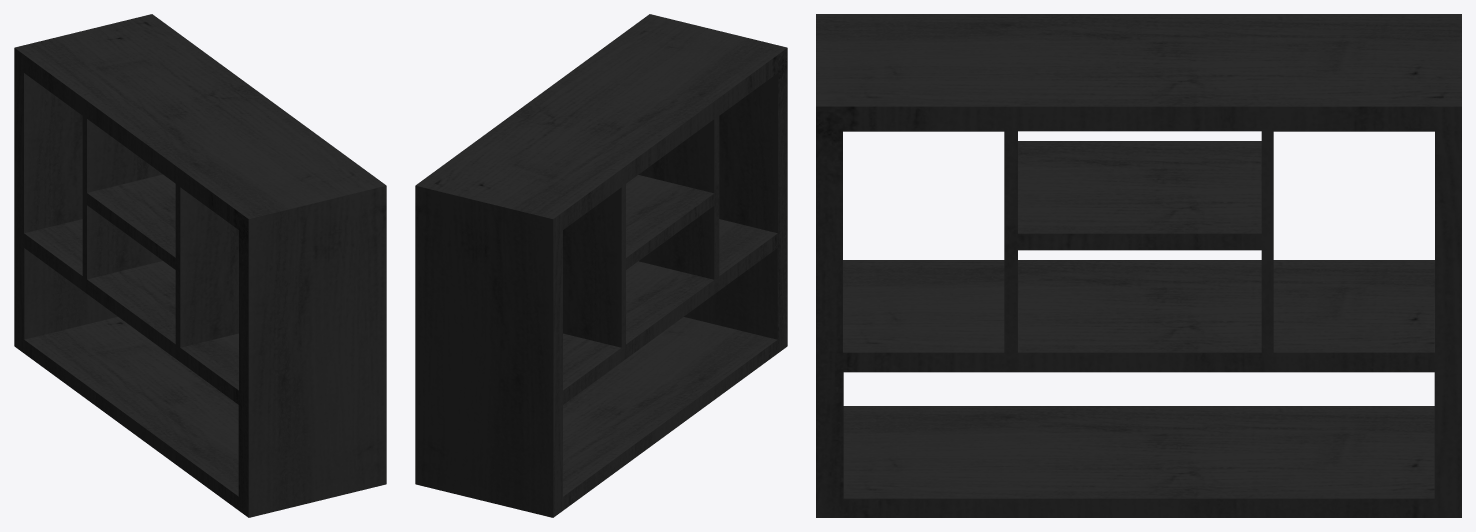
Rendered from estanteriaDePared1.fbx.
3 views of the same model, side by side, from view 1: azimuth 30°, elevation 25°; view 2: azimuth 150°, elevation 25°; view 3: azimuth 270°, elevation 25° (orthographic). The views are drawn at different scales.
Parts seen in each view (by area): view 1: estanteriaDePared1; view 2: estanteriaDePared1; view 3: estanteriaDePared1.
Boxes of the visible parts, x1,y1,x2,y2 form: estanteriaDePared1: (14,14,386,517); estanteriaDePared1: (415,14,787,517); estanteriaDePared1: (816,14,1461,517).
Bounding box in the file's own units: 630 × 1305 × 1856.
